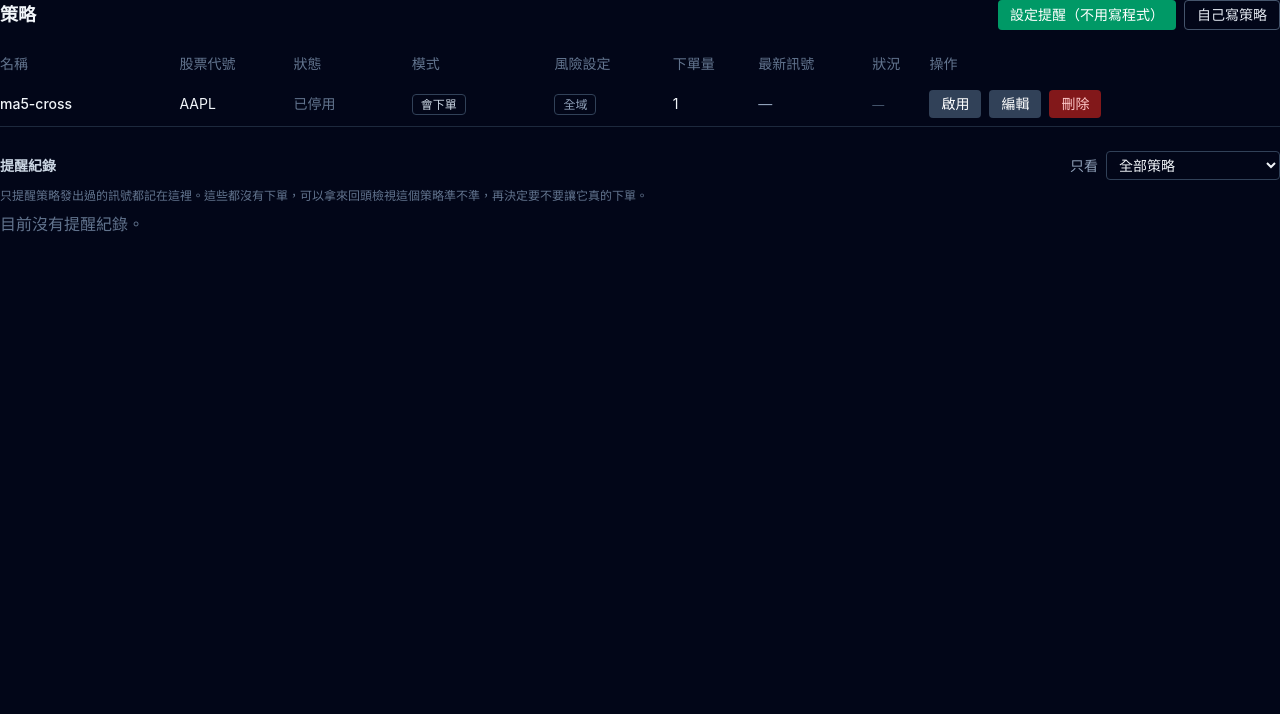
StrategiesPage › fills in code that failed validation together with the reason
The width and height of the screenshot is (1280, 714).
Click the button "自己寫策略" at (1232, 15), box [1184,0,1279,30]
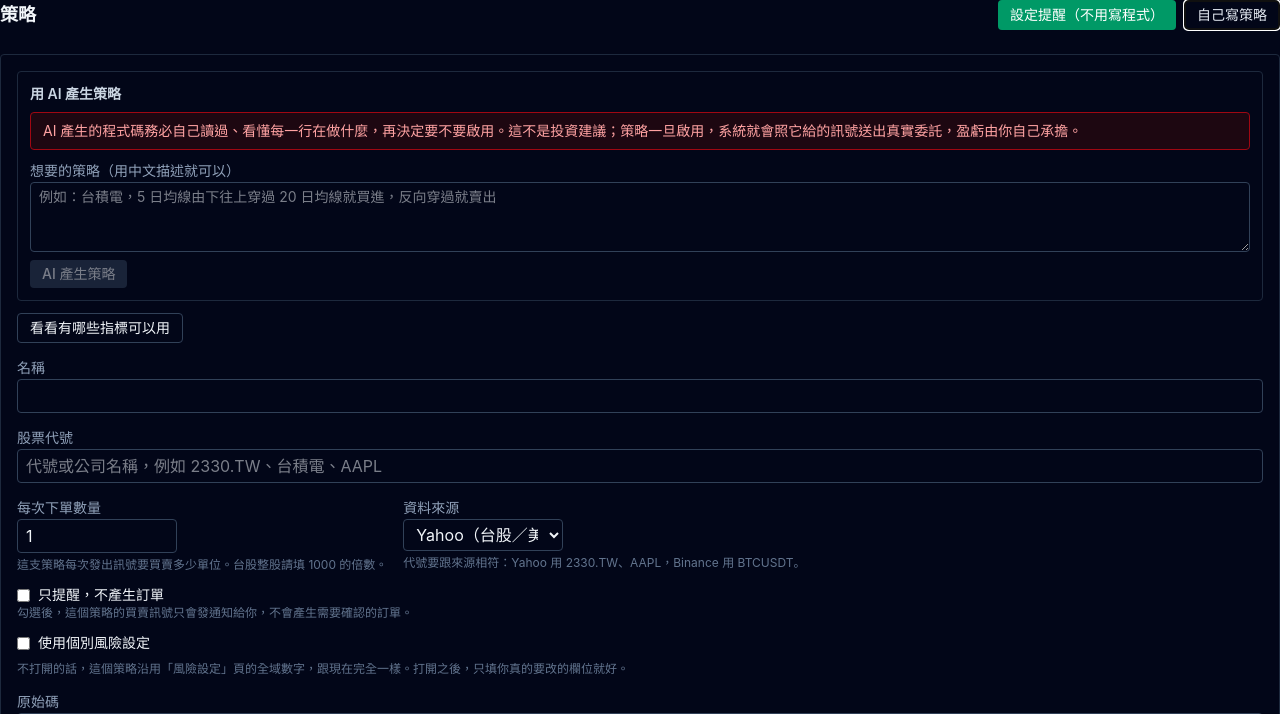
Type "用 pandas 算均線" into the text box labelled "想要的策略（用中文描述就可以）" at (640, 217), box [30,182,1250,252]
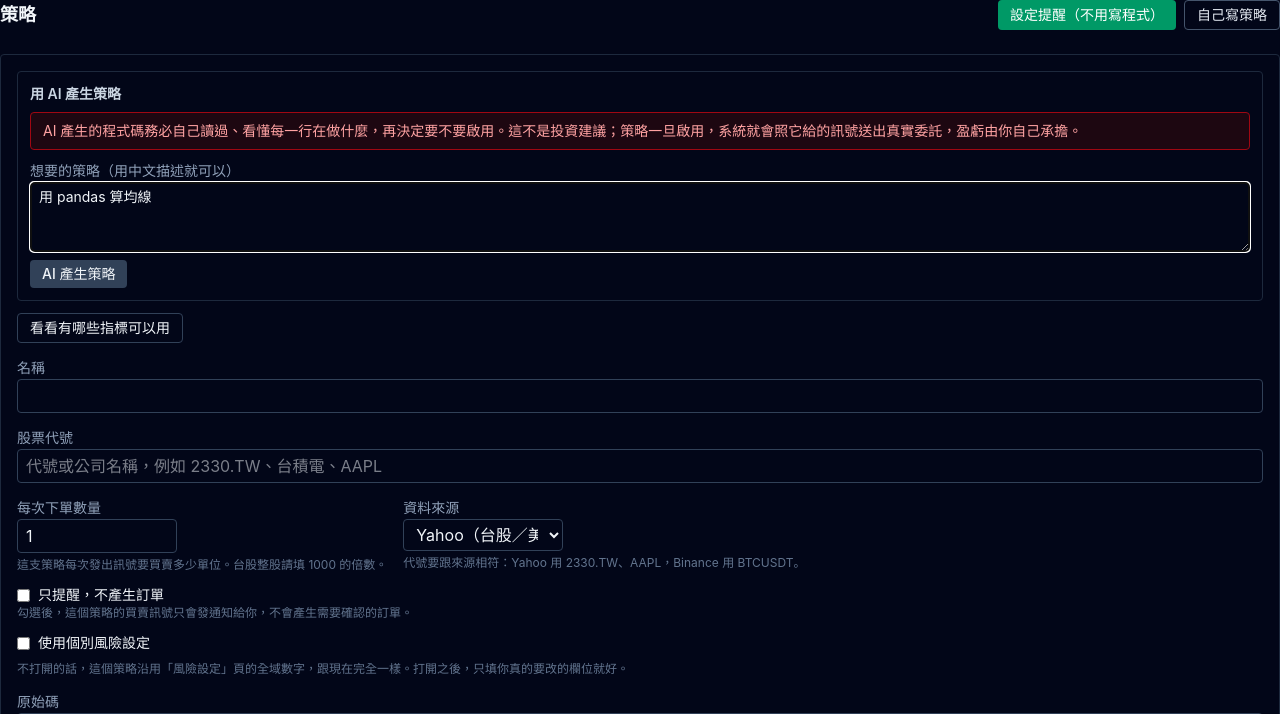
Click the button "AI 產生策略" at (79, 274), box [30,260,128,288]
(page scrolled)
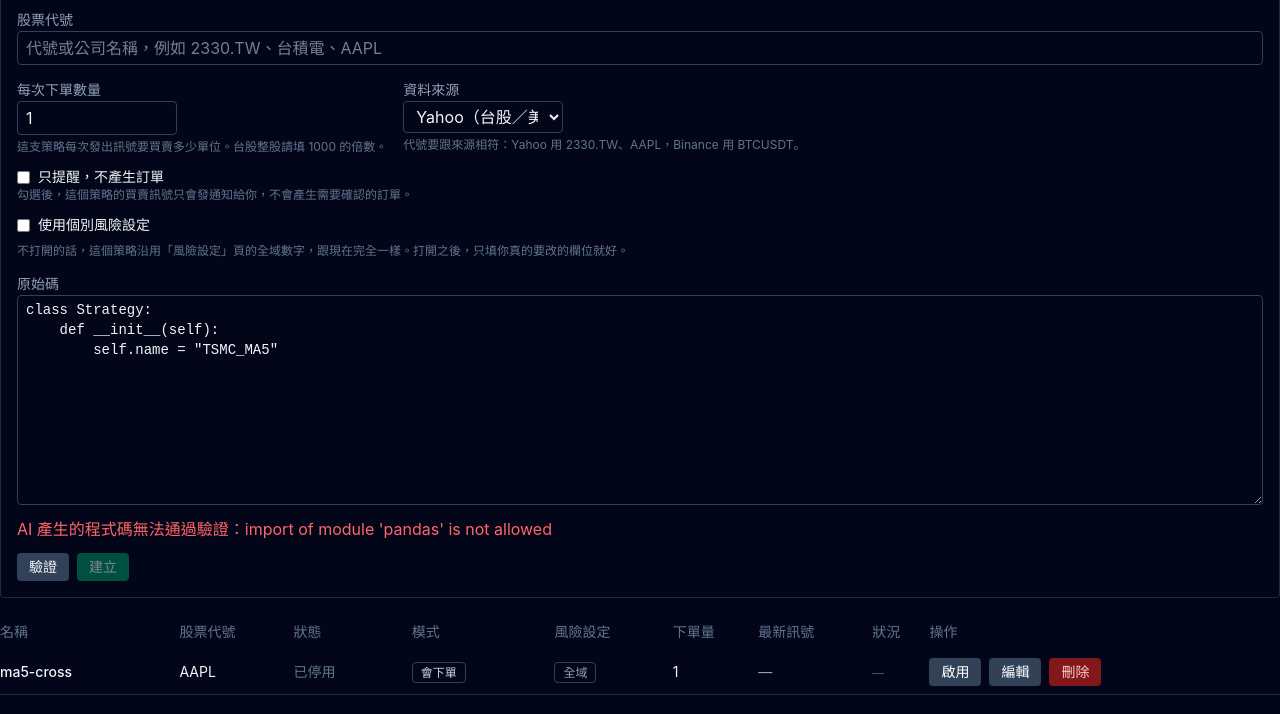
Expected: the text "AI 產生的程式碼無法通過驗證：import of module 'pandas' is not allowed" is shown, [17,519,552,539]
